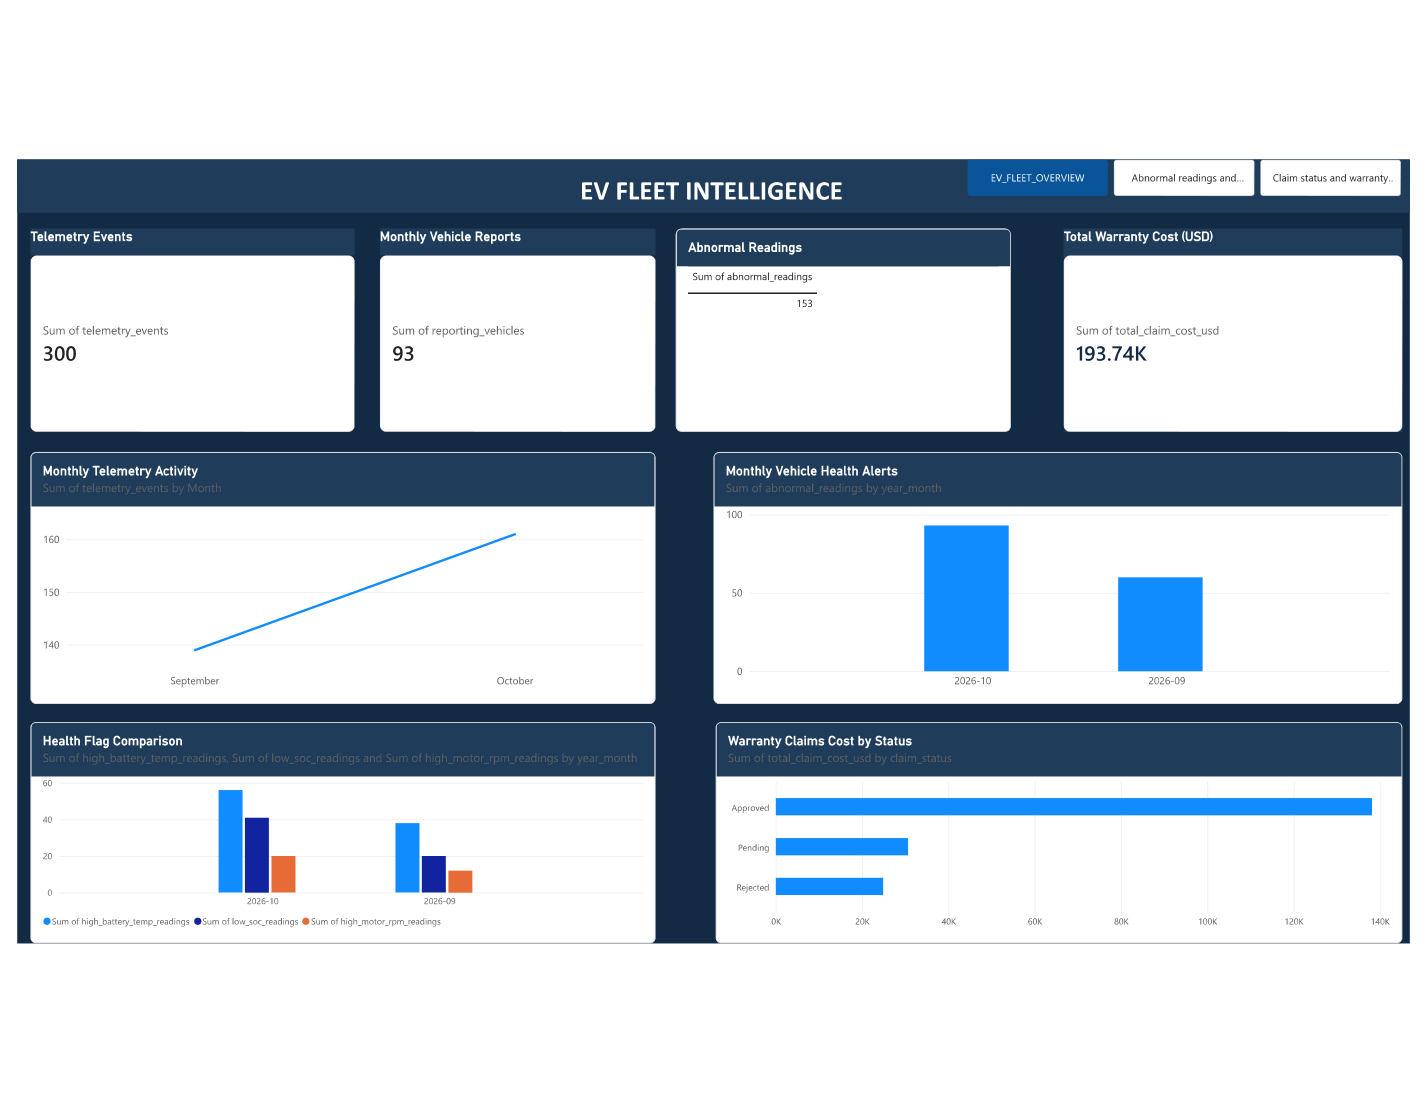

Layout of this report page (visuals, bound fields, positions):
{"tool":"powerbi","page":{"name":"EV_FLEET_OVERVIEW","canvas":[1920,1080],"ordinal":0},"visuals":[{"type":"lineChart","title":"Monthly Telemetry Activity","fields":{"Category":["monthly_engineering_kpis.report_month.Variation.Date Hierarchy.Month"],"Y":["Sum(monthly_engineering_kpis.telemetry_events)"]},"box":[17.5,402.5,862.5,347.5],"z":0},{"type":"clusteredColumnChart","title":"Monthly Vehicle Health Alerts","fields":{"Category":["monthly_vehicle_health_kpis.year_month"],"Y":["Sum(monthly_vehicle_health_kpis.abnormal_readings)"]},"box":[960,402.5,950,347.5],"z":1000},{"type":"barChart","title":"Warranty Claims Cost by Status","fields":{"Category":["warranty_claims_kpis_by_status.claim_status"],"Y":["Sum(warranty_claims_kpis_by_status.total_claim_cost_usd)"]},"box":[962.5,775,947.5,305],"z":2000},{"type":"cardVisual","title":"Total Warranty Cost (USD)","fields":{"Data":["Sum(warranty_claims_kpis_by_status.total_claim_cost_usd)"]},"box":[1442.5,95,467.5,280],"z":3000},{"type":"tableEx","title":"Abnormal Readings","fields":{"Values":["Sum(monthly_vehicle_health_kpis.abnormal_readings)"]},"box":[907.5,95,462.5,280],"z":4000},{"type":"cardVisual","title":"Telemetry Events","fields":{"Data":["Sum(monthly_engineering_kpis.telemetry_events)"]},"box":[17.5,95,447.5,280],"z":5000},{"type":"cardVisual","title":"Monthly Vehicle Reports","fields":{"Data":["Sum(monthly_engineering_kpis.reporting_vehicles)"]},"box":[500,95,380,280],"z":6000},{"type":"textbox","box":[0,0,1922.5,72.5],"z":7000},{"type":"clusteredColumnChart","title":"Health Flag Comparison","fields":{"Category":["monthly_vehicle_health_kpis.year_month"],"Y":["Sum(monthly_vehicle_health_kpis.high_battery_temp_readings)","Sum(monthly_vehicle_health_kpis.low_soc_readings)","Sum(monthly_vehicle_health_kpis.high_motor_rpm_readings)"]},"box":[17.5,775,862.5,305],"z":8000},{"type":"pageNavigator","box":[1310,0,600,50],"z":9001}]}

Visuals, with their boxes in screenshot pixels (x1, y1, x2, y2):
"Monthly Telemetry Activity" lineChart: {"left": 17, "top": 447, "right": 648, "bottom": 702}
"Monthly Vehicle Health Alerts" clusteredColumnChart: {"left": 707, "top": 447, "right": 1403, "bottom": 702}
"Warranty Claims Cost by Status" barChart: {"left": 709, "top": 720, "right": 1403, "bottom": 943}
"Total Warranty Cost (USD)" cardVisual: {"left": 1060, "top": 222, "right": 1403, "bottom": 427}
"Abnormal Readings" tableEx: {"left": 668, "top": 222, "right": 1007, "bottom": 427}
"Telemetry Events" cardVisual: {"left": 17, "top": 222, "right": 344, "bottom": 427}
"Monthly Vehicle Reports" cardVisual: {"left": 370, "top": 222, "right": 648, "bottom": 427}
textbox: {"left": 4, "top": 152, "right": 1412, "bottom": 205}
"Health Flag Comparison" clusteredColumnChart: {"left": 17, "top": 720, "right": 648, "bottom": 943}
pageNavigator: {"left": 963, "top": 152, "right": 1403, "bottom": 189}
